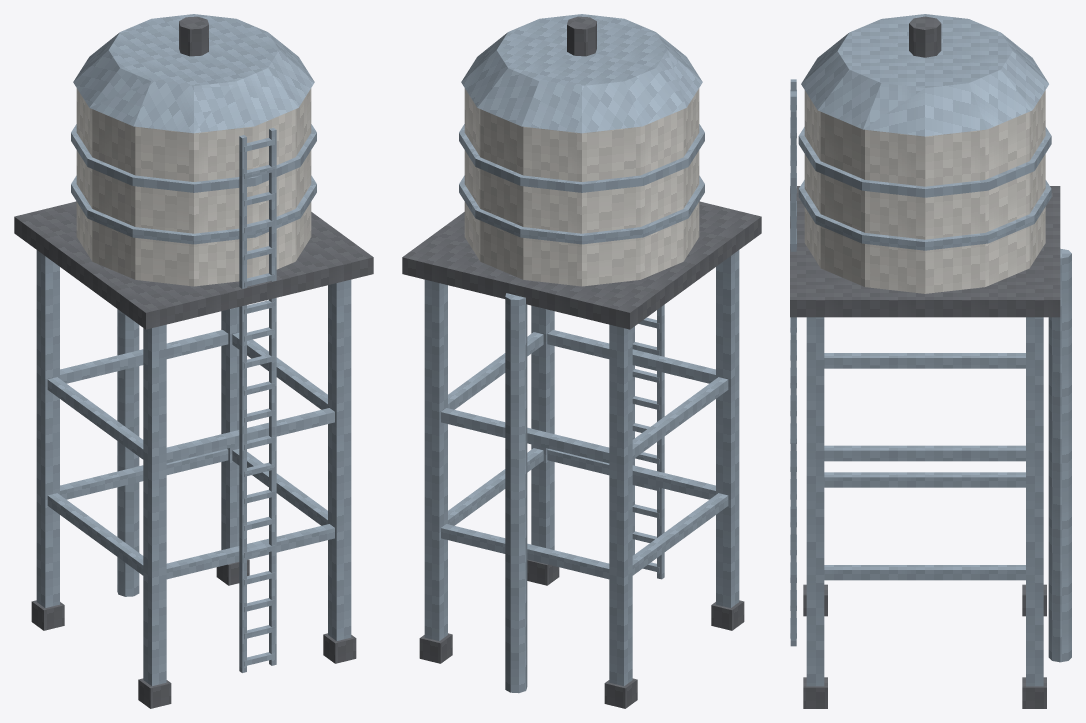
File: pixel-modern-farm-water-tower-455aba0e__29106.glb
The picture shows the model from 3 angles, left to right: view 1: azimuth 30°, elevation 25°; view 2: azimuth 150°, elevation 25°; view 3: azimuth 270°, elevation 25°; orthographic projection. The views are drawn at different scales.
Visible parts, largest first — view 1: water-tower; view 2: water-tower; view 3: water-tower.
Boxes of the visible parts, <box> form: water-tower: <box>14,14,373,708</box>; water-tower: <box>402,14,761,708</box>; water-tower: <box>790,14,1071,708</box>.
Bounding box in the file's own units: 3.7 × 9.58 × 3.86.
Materials: 3 (3 with a texture image).
